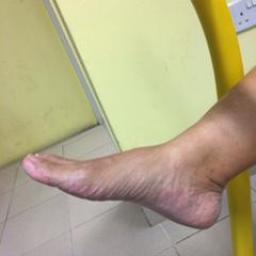Medial View -Right Foot-: (11, 91, 255, 241)
